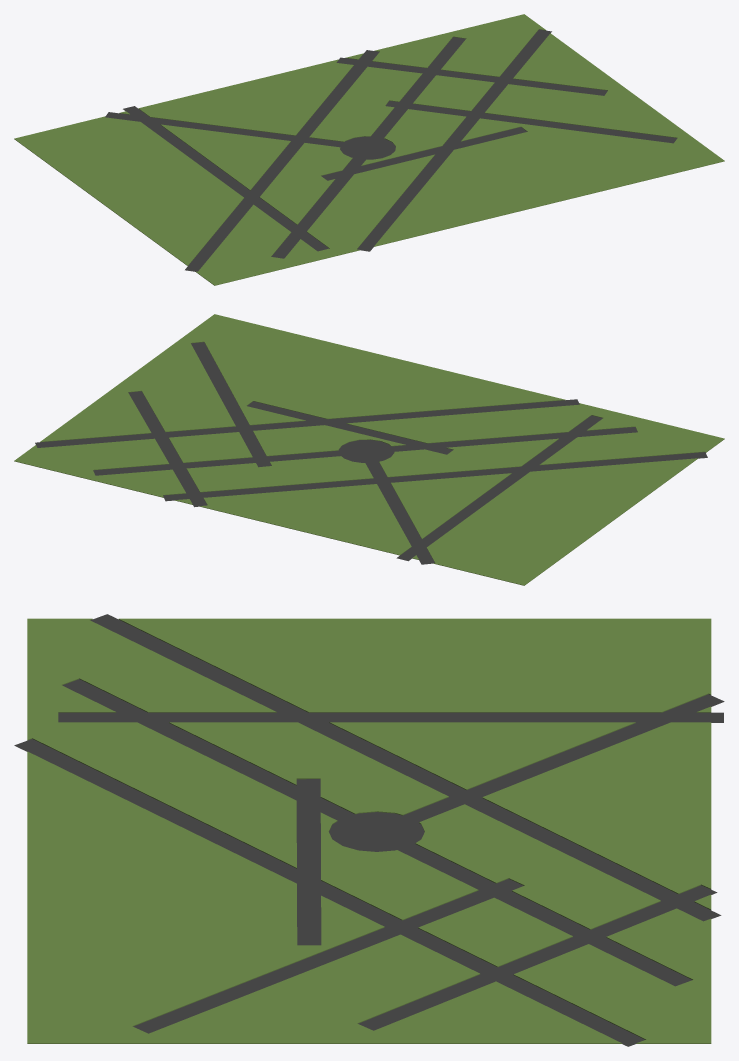
Rendered from road prototype.fbx.
The picture shows the model from 3 angles, top to bottom: view 1: azimuth 30°, elevation 25°; view 2: azimuth 150°, elevation 25°; view 3: azimuth 270°, elevation 25°; orthographic projection. The views are drawn at different scales.
Parts seen in each view (by area): view 1: land, road; view 2: land, road; view 3: land, road.
Part boxes in pixels (x1,y1,x2,y2): land: (14, 14, 724, 285); road: (105, 29, 677, 271); land: (14, 314, 724, 585); road: (35, 342, 707, 564); land: (27, 618, 711, 1043); road: (14, 614, 724, 1046).
Size of the model in its own units: 38289 by 30 by 26576.
